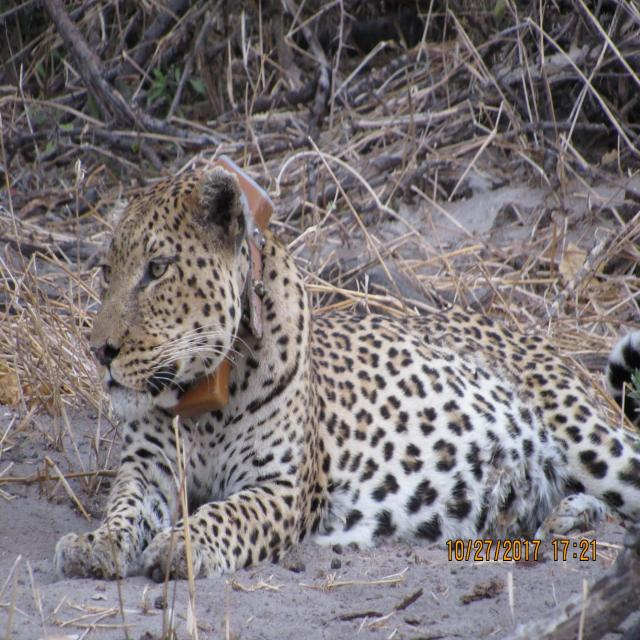Leopard: (29, 149, 640, 585)
